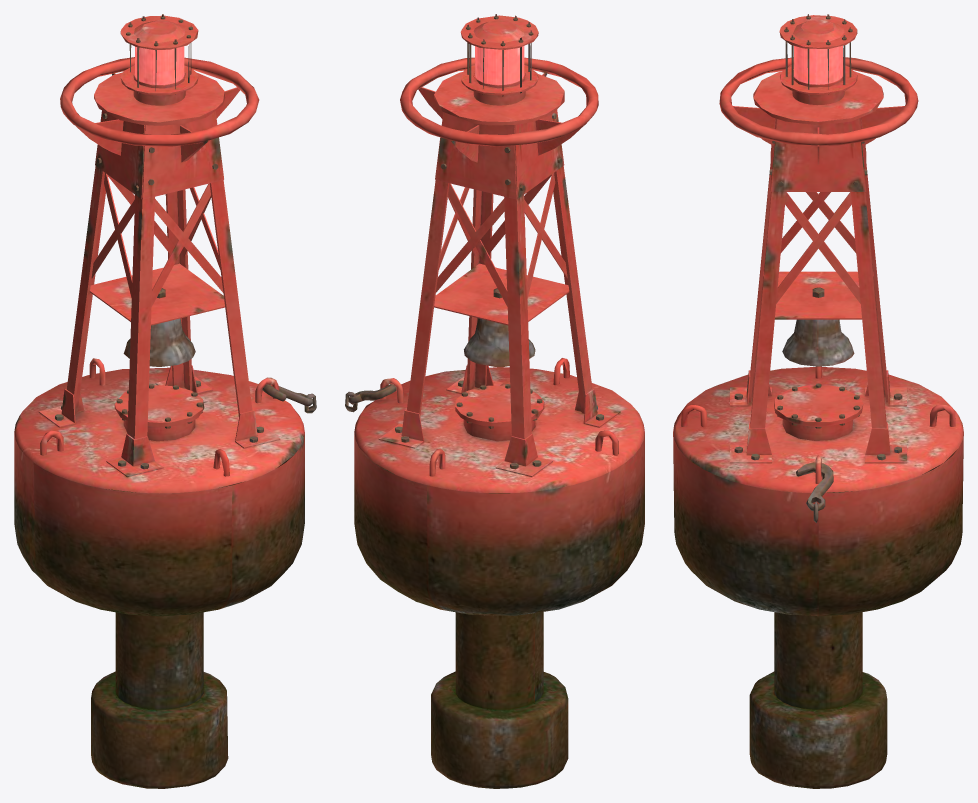
The model's file is buoy.glb.
3 renders of one model, left to right at view 1: azimuth 30°, elevation 25°; view 2: azimuth 150°, elevation 25°; view 3: azimuth 270°, elevation 25°, orthographic.
Parts seen in each view (by area): view 1: ocean_buoy; view 2: ocean_buoy; view 3: ocean_buoy.
Part boxes in pixels (x1,y1,x2,y2): ocean_buoy: [14, 14, 316, 788]; ocean_buoy: [345, 14, 644, 788]; ocean_buoy: [673, 14, 963, 788].
Bounding box in the file's own units: 0.5438 × 1.36 × 0.4859.
1 material, 1 textured.
